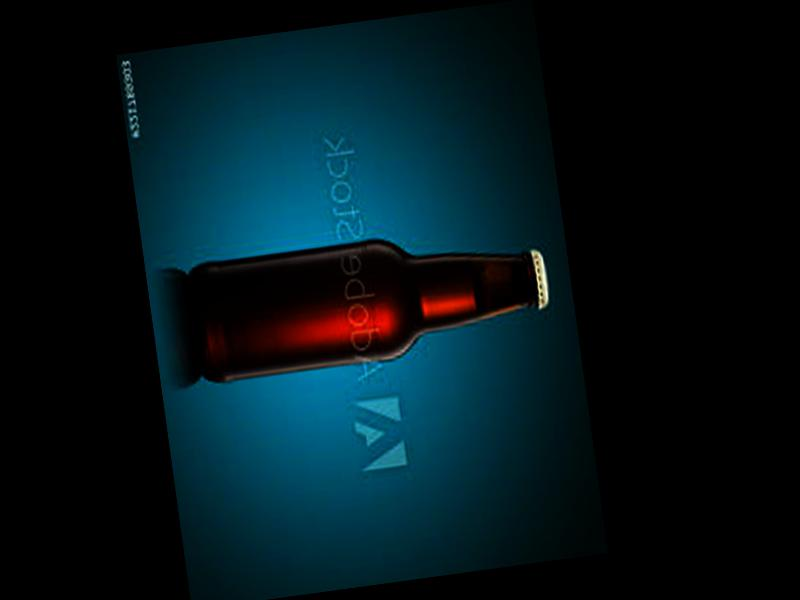Beer: (183, 215, 555, 384)
